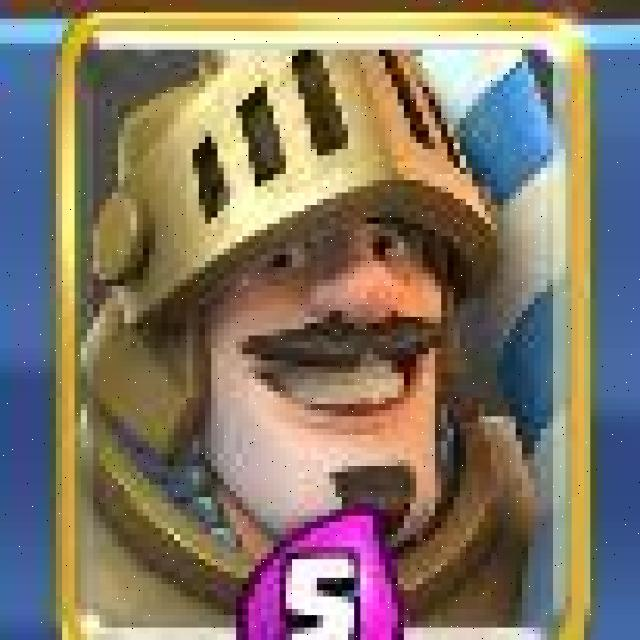Prince: (60, 15, 580, 640)
